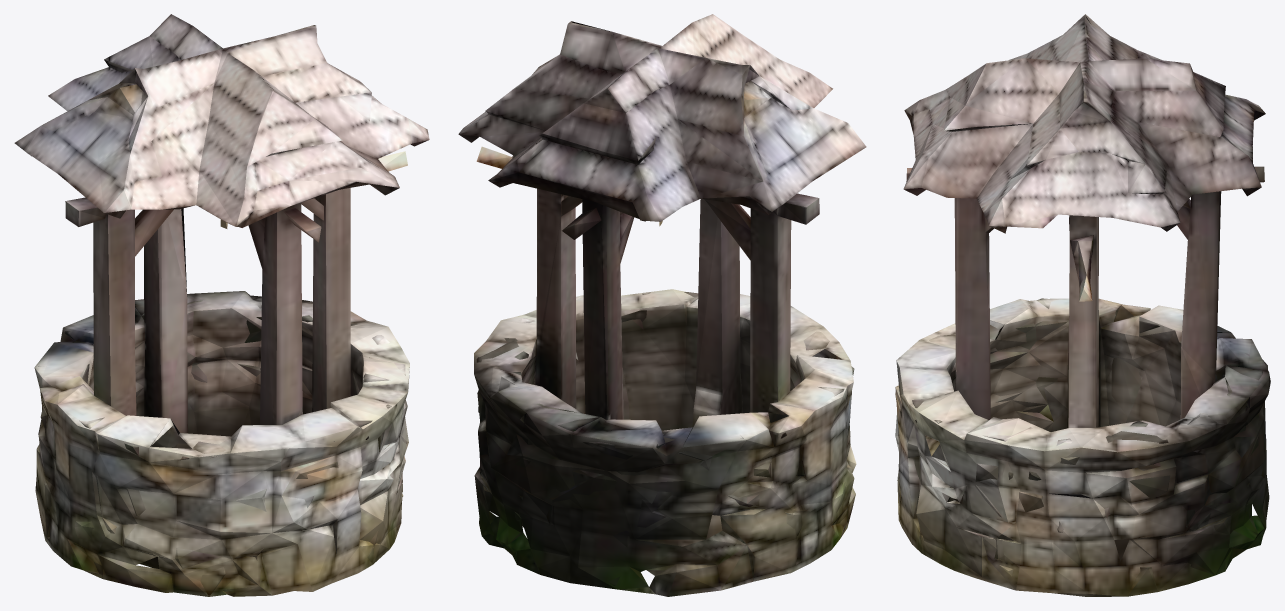
File: ga3_well_lod0.glb
3 views of the same model, side by side, from view 1: azimuth 30°, elevation 25°; view 2: azimuth 150°, elevation 25°; view 3: azimuth 270°, elevation 25° (orthographic).
Visible parts, largest first — view 1: ga3_well_lod0; view 2: ga3_well_lod0; view 3: ga3_well_lod0.
Part boxes in pixels (x1,y1,x2,y2): ga3_well_lod0: [14, 14, 429, 596]; ga3_well_lod0: [458, 14, 866, 596]; ga3_well_lod0: [895, 14, 1270, 596].
Size of the model in its own units: 2.58 by 3.39 by 2.47.
Materials: 1 (1 with a texture image).
